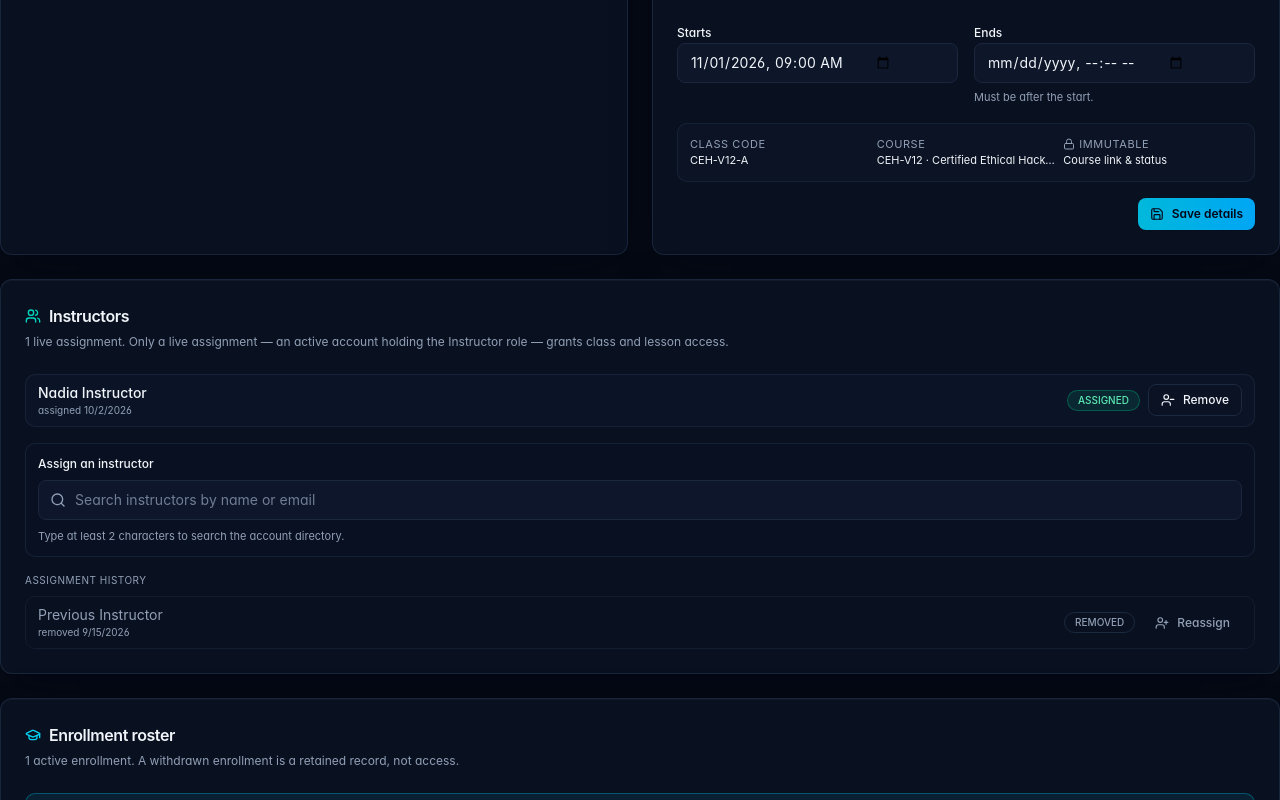
Instructor assignment › confirms removal and explains that access is revoked immediately
This screenshot has width=1280, height=800.
(page scrolled)
Expected: the text "Nadia Instructor" is shown, [38,383,147,403]
Step 1. Click the button with aria-label "Remove Nadia Instructor" → point(1195, 400), box [1148,384,1242,416]
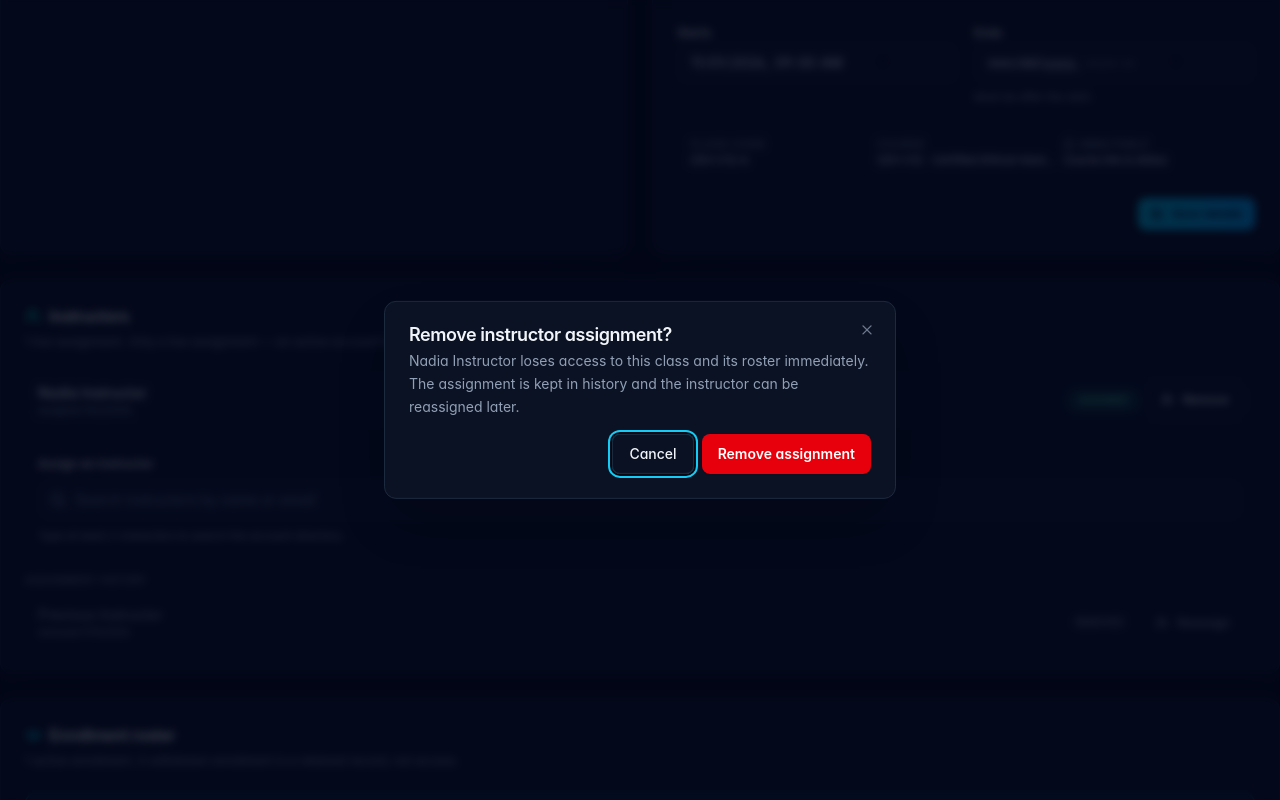
Step 2. Click the button "Remove assignment" → point(786, 454), box [702,434,871,474]
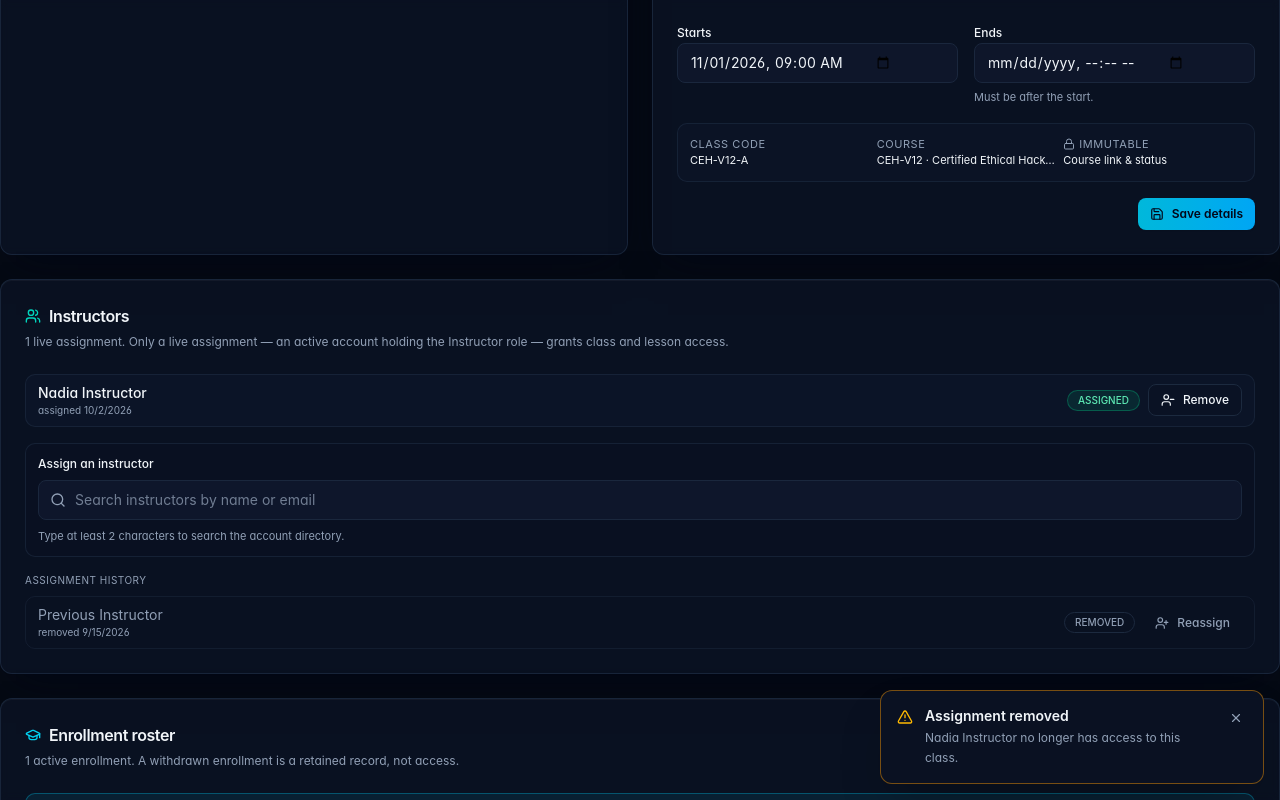
Expected: the text "Assignment removed" is shown, [925,706,1069,724]
